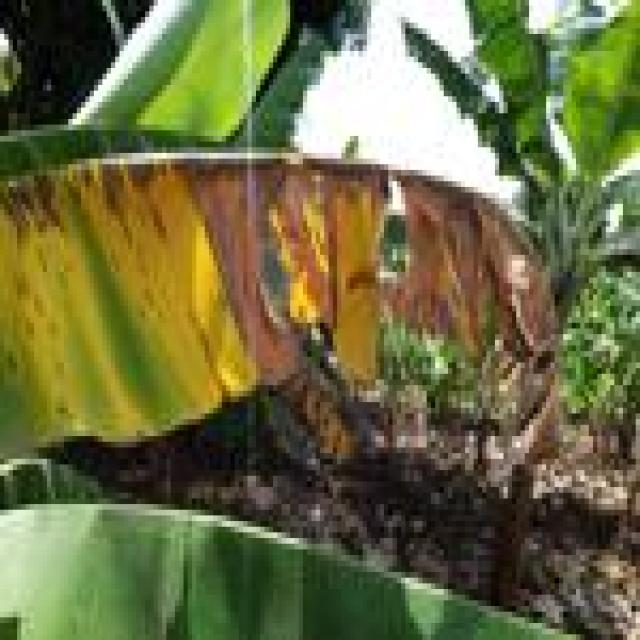Early_rust: (0, 90, 570, 486)
